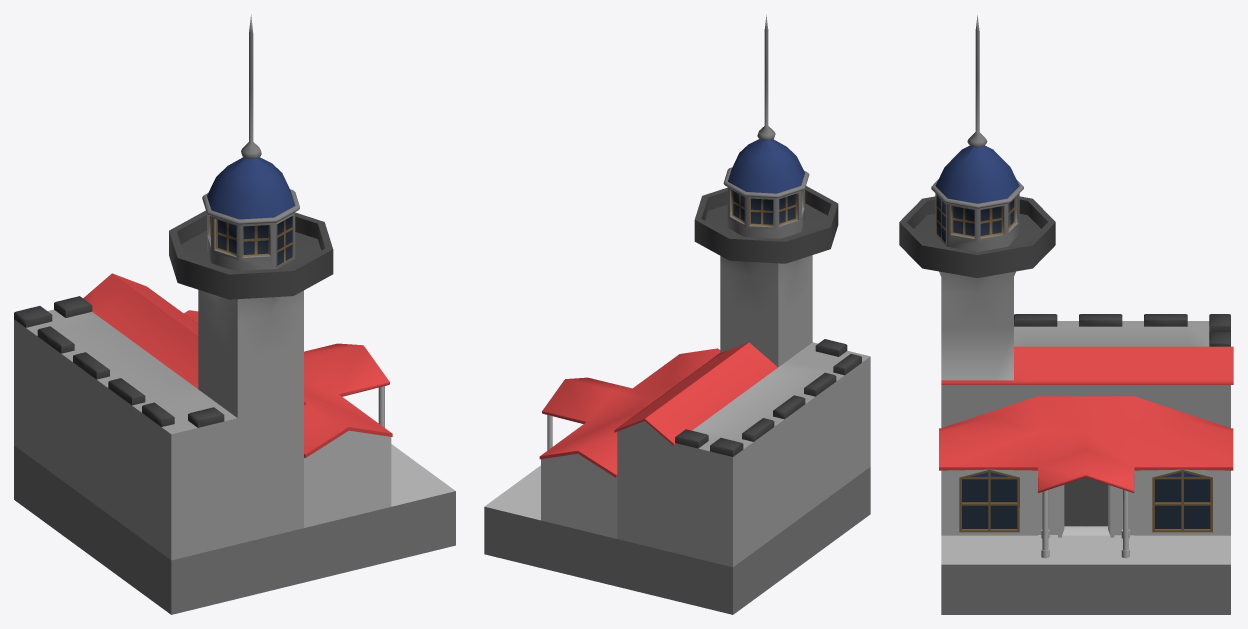
The model's file is kz_kulesi.glb.
3 renders of one model, left to right at view 1: azimuth 30°, elevation 25°; view 2: azimuth 150°, elevation 25°; view 3: azimuth 270°, elevation 25°, orthographic. The views are drawn at different scales.
Visible parts, largest first — view 1: Kiz_Kulesi; view 2: Kiz_Kulesi; view 3: Kiz_Kulesi.
Part boxes in pixels (x1,y1,x2,y2): Kiz_Kulesi: [14, 14, 455, 614]; Kiz_Kulesi: [484, 14, 870, 614]; Kiz_Kulesi: [899, 15, 1233, 614].
Bounding box in the file's own units: 1603 × 3027 × 1772.
